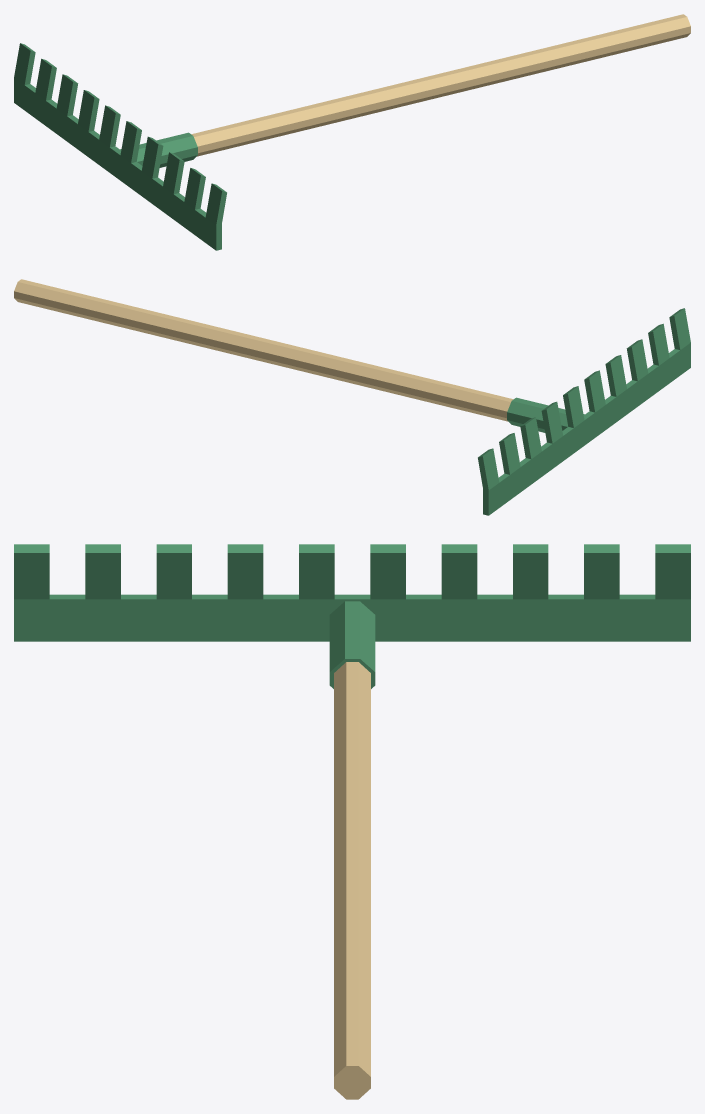
The model's file is rake.glb.
3 views of the same model, one above another, from view 1: azimuth 30°, elevation 25°; view 2: azimuth 150°, elevation 25°; view 3: azimuth 270°, elevation 25° (orthographic). The views are drawn at different scales.
Visible parts, largest first — view 1: rake_stick, rake_head; view 2: rake_stick, rake_head; view 3: rake_head, rake_stick.
Boxes of the visible parts, x1=… form: rake_stick: x1=120, y1=14, x2=690, y2=167; rake_head: x1=14, y1=43, x2=226, y2=250; rake_stick: x1=14, y1=279, x2=584, y2=432; rake_head: x1=478, y1=308, x2=690, y2=515; rake_head: x1=14, y1=544, x2=690, y2=641; rake_stick: x1=329, y1=601, x2=375, y2=1099.
Size of the model in its own units: 17.12 by 1.67 by 10.51.
